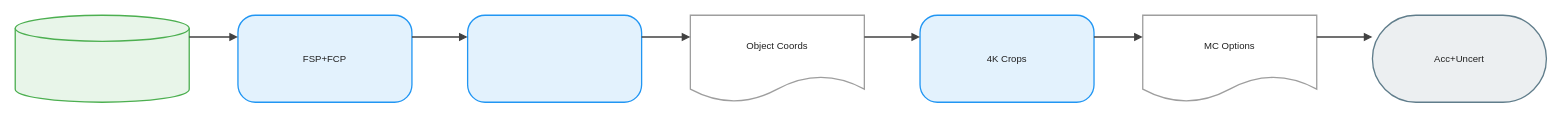
This 1563x118 diagram has some shape labels left out. Here are the shapes that lost their labels. From the top down, the centre of each, then its label:
At pixel 101 58: "8K Images".
At pixel 554 58: "Human QA".
